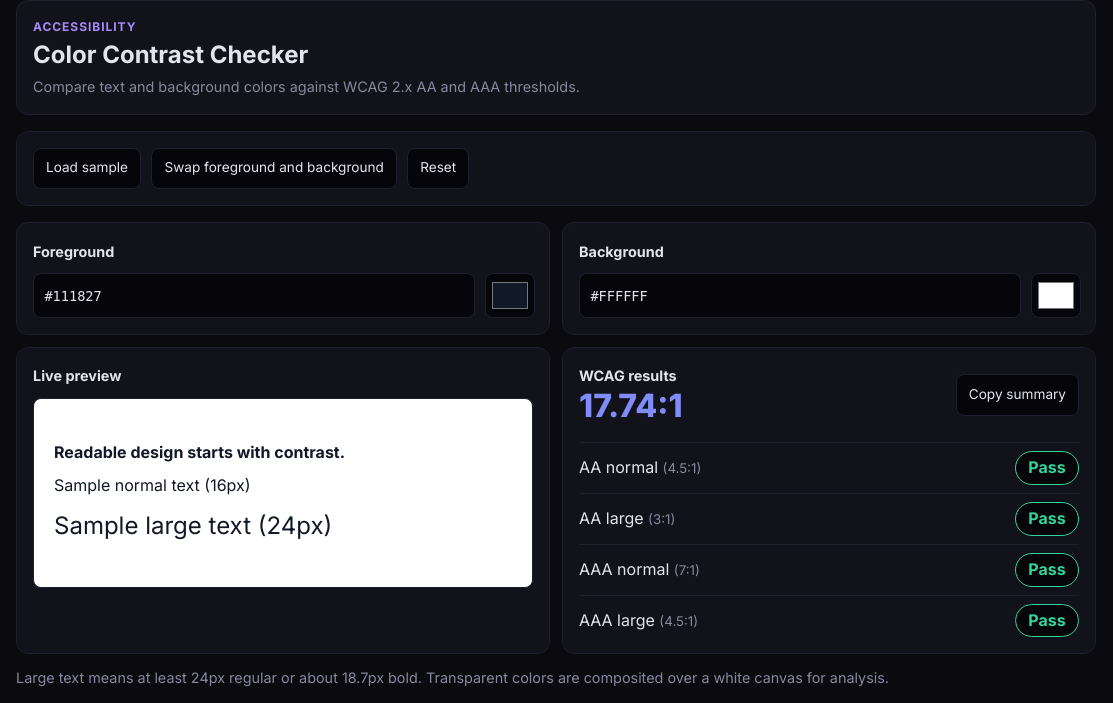
Test: ColorContrastTool › keeps the native picker and text input synchronized
In the colour field named "Foreground color picker": (510, 296) [485,273,535,318], type "#ff0000"
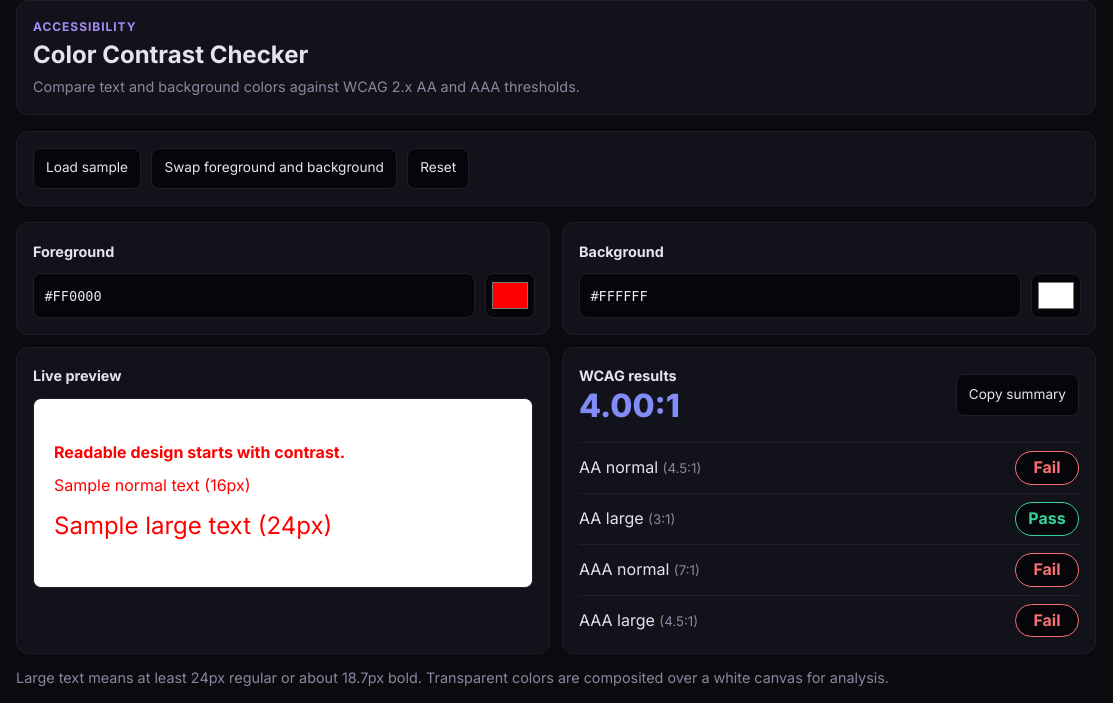
Now the field labelled "Foreground" holds "#FF0000", box [33,273,475,318]
